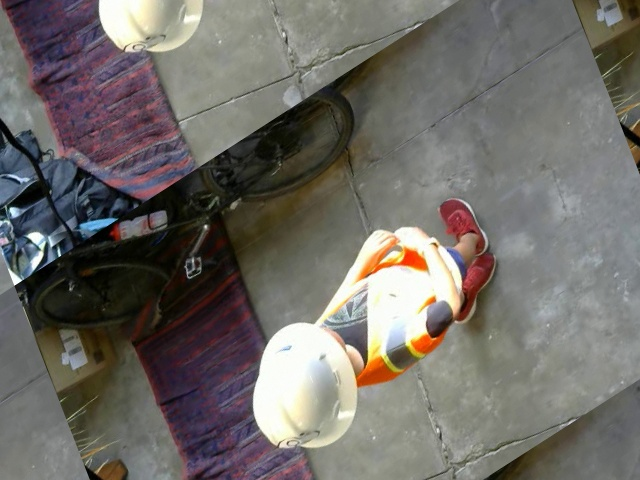eight: (274, 417, 320, 460)
